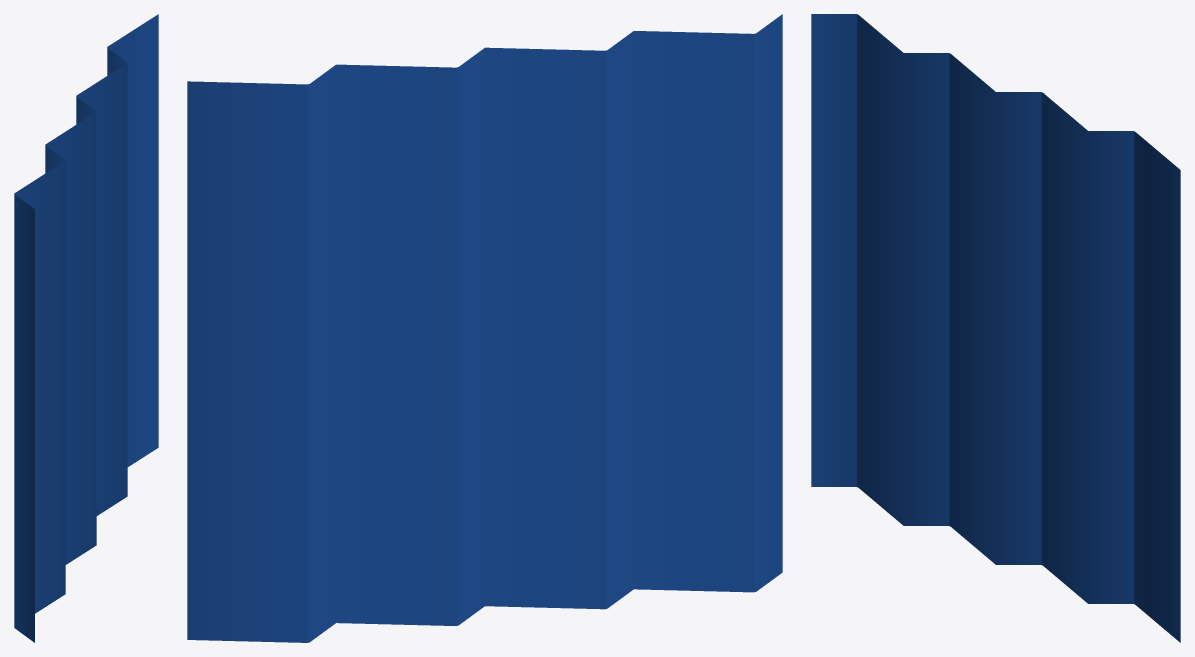
File: kit_40x40m_terrain_003.007.obj
The picture shows the model from 3 angles, left to right: view 1: azimuth 30°, elevation 25°; view 2: azimuth 150°, elevation 25°; view 3: azimuth 270°, elevation 25°; orthographic projection. The views are drawn at different scales.
Parts seen in each view (by area): view 1: kit_40x40m_terrain_003.007; view 2: kit_40x40m_terrain_003.007; view 3: kit_40x40m_terrain_003.007.
Boxes of the visible parts, left/top/right/bottom form: kit_40x40m_terrain_003.007: left=14, top=14, right=158, bottom=642; kit_40x40m_terrain_003.007: left=187, top=14, right=782, bottom=642; kit_40x40m_terrain_003.007: left=811, top=14, right=1180, bottom=642.
Bounding box in the file's own units: 28.28 × 40 × 28.28.
